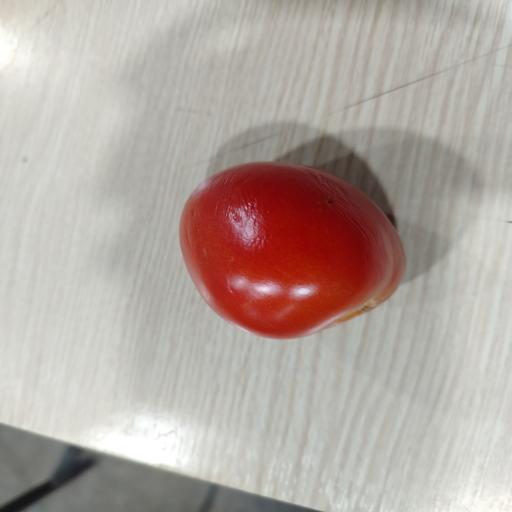spoiled: (180, 162, 405, 338)
